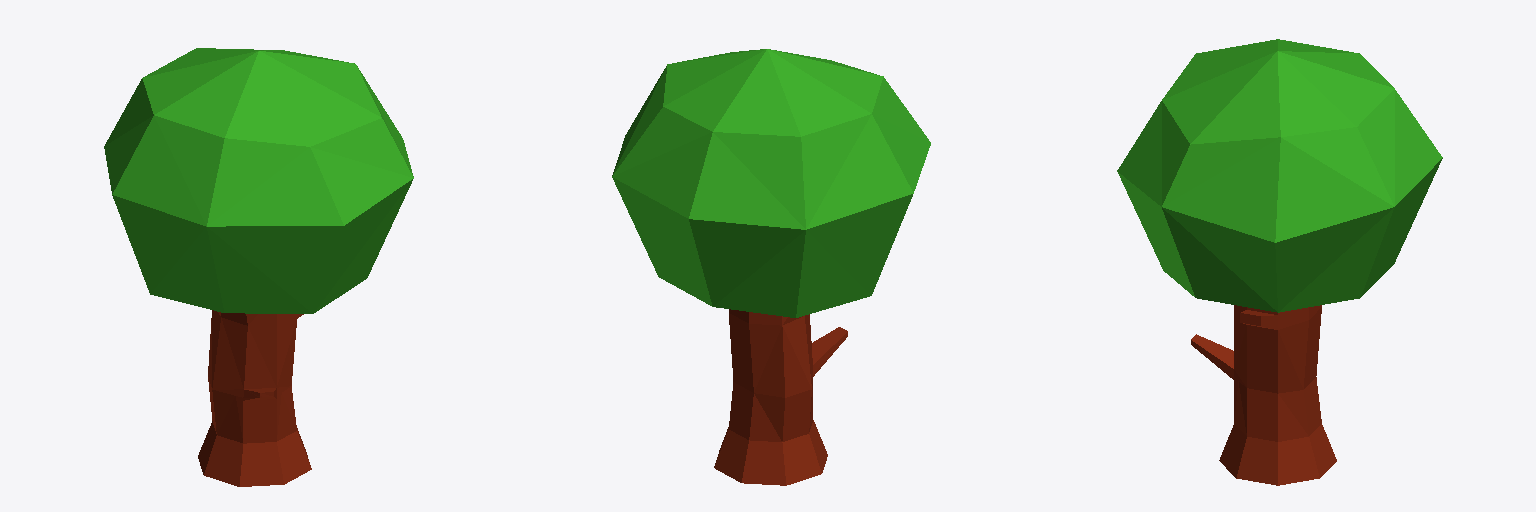
The model's file is apple.obj.
The picture shows the model from 3 angles: view 1: azimuth 30°, elevation 25°; view 2: azimuth 150°, elevation 25°; view 3: azimuth 270°, elevation 25°; orthographic projection.
Visible parts, largest first — view 1: leaves, trunk; view 2: leaves, trunk; view 3: leaves, trunk.
Boxes of the visible parts, x1=… form: leaves: x1=104, y1=48, x2=413, y2=313; trunk: x1=198, y1=310, x2=311, y2=486; leaves: x1=612, y1=49, x2=930, y2=317; trunk: x1=714, y1=309, x2=847, y2=485; leaves: x1=1117, y1=39, x2=1442, y2=312; trunk: x1=1191, y1=305, x2=1336, y2=485.
Bounding box in the file's own units: 0.7875 × 1.07 × 0.7671.